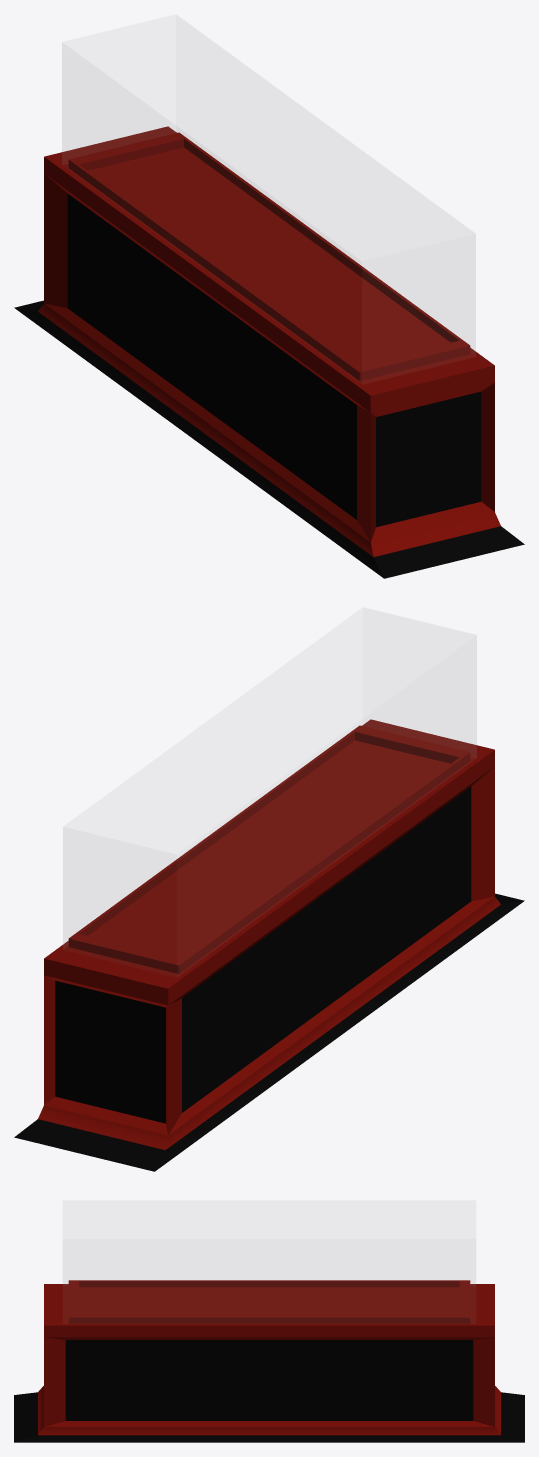
The model's file is Expositor_Joias_grande.fbx.
3 renders of one model, top to bottom at view 1: azimuth 30°, elevation 25°; view 2: azimuth 150°, elevation 25°; view 3: azimuth 270°, elevation 25°, orthographic. The views are drawn at different scales.
Parts seen in each view (by area): view 1: pCube1, pasted__pCube1; view 2: pCube1, pasted__pCube1; view 3: pCube1, pasted__pCube1.
Boxes of the visible parts, left/top/right/bottom form: pCube1: left=14, top=126, right=524, bottom=578; pasted__pCube1: left=62, top=15, right=475, bottom=356; pCube1: left=14, top=719, right=524, bottom=1171; pasted__pCube1: left=63, top=608, right=476, bottom=949; pCube1: left=14, top=1280, right=524, bottom=1442; pasted__pCube1: left=63, top=1201, right=475, bottom=1285.
Bounding box in the file's own units: 670 × 1312 × 3053.
